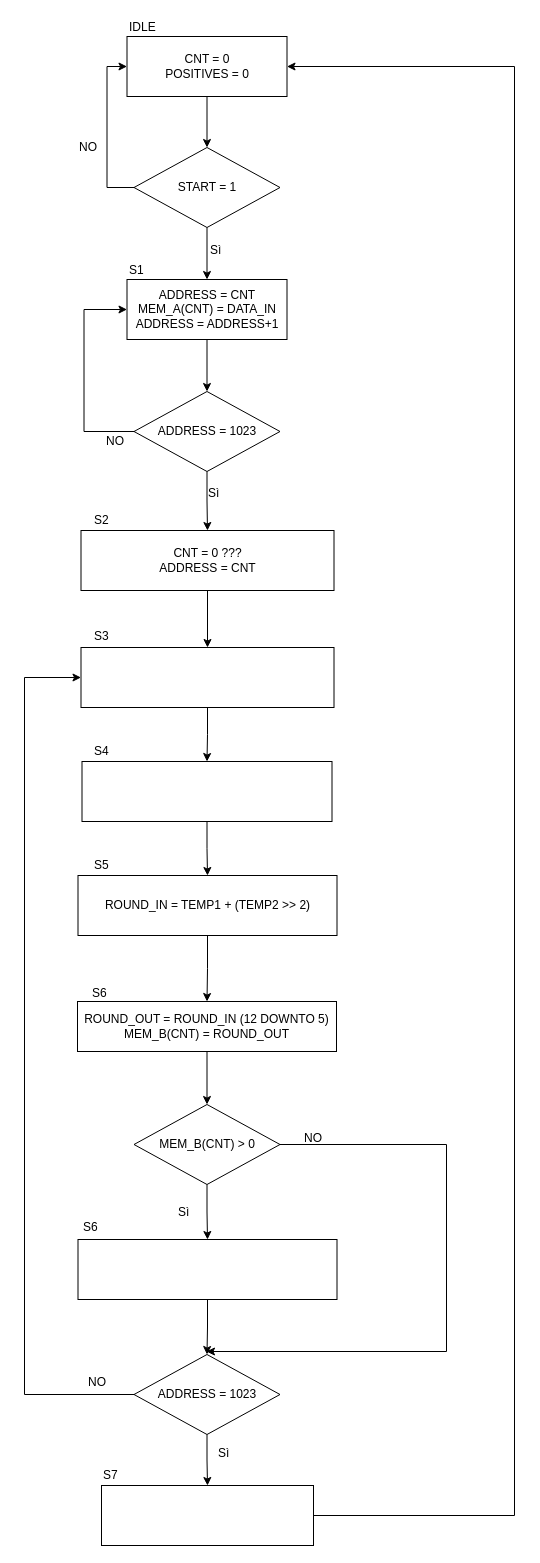
Image size: 540x1563. Some labels were removed from this diagram. Here are the shapes that lost their labels. From the top down, the box of each, then its label:
(80, 646, 334, 708): TEMP1 = MEM_A(CNT)*0.5 - MEM_A(CNT-2) ADDRESS = ADDRESS+1
(81, 760, 332, 822): TEMP2 = MEM_A(CNT-1)*16 - MEM_A(CNT-1)
(77, 1238, 337, 1300): POSITIVES++
(100, 1484, 314, 1546): DONE = 1
